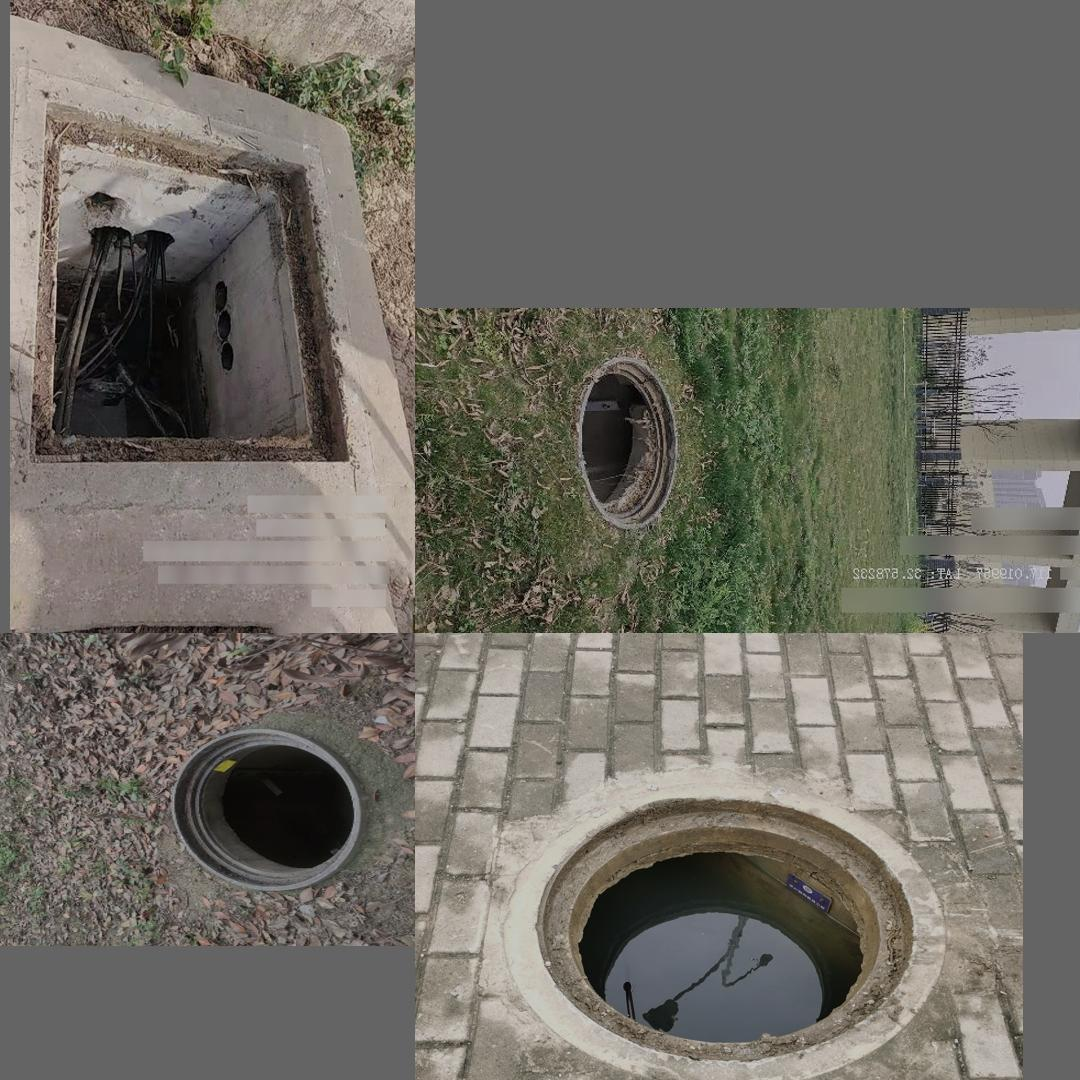lose: (10, 67, 381, 510), (503, 783, 949, 1080), (170, 727, 361, 890), (577, 357, 678, 531)
